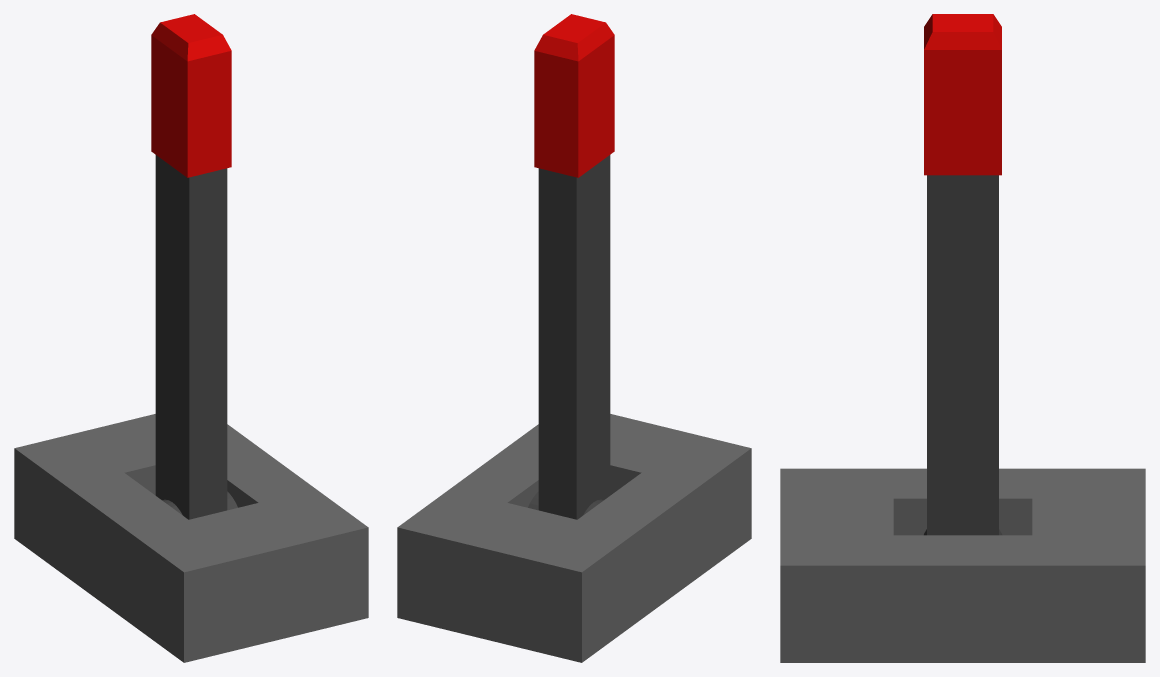
Rendered from RedLeverWB.glb.
3 renders of one model, left to right at view 1: azimuth 30°, elevation 25°; view 2: azimuth 150°, elevation 25°; view 3: azimuth 270°, elevation 25°, orthographic. The views are drawn at different scales.
Parts seen in each view (by area): view 1: Base, Handle, Top; view 2: Base, Handle, Top; view 3: Base, Handle, Top.
Part boxes in pixels (x1,y1,x2,y2): Base: [14, 414, 368, 662]; Handle: [155, 155, 237, 519]; Top: [151, 14, 231, 177]; Base: [397, 414, 751, 662]; Handle: [528, 155, 610, 519]; Top: [534, 14, 614, 177]; Base: [780, 468, 1145, 662]; Handle: [924, 175, 1001, 535]; Top: [924, 14, 1001, 175].
Size of the model in its own units: 0.38 by 1.08 by 0.6054.
